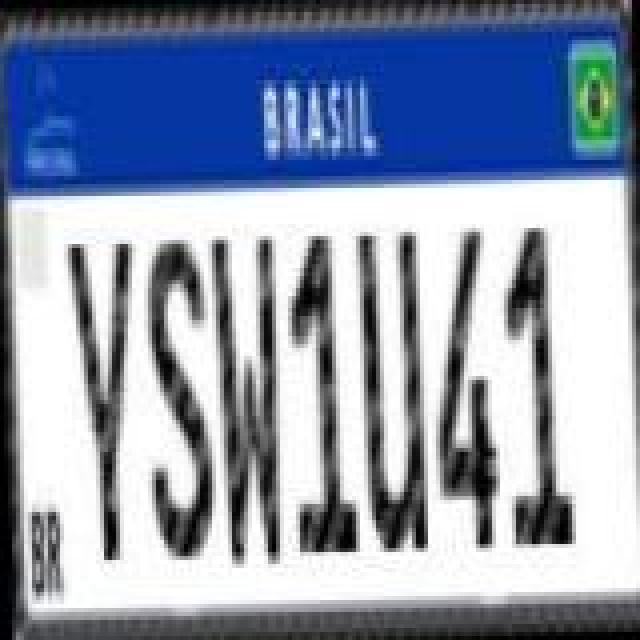1: (286, 230, 362, 562), (502, 218, 578, 550)
4: (428, 224, 500, 556)
S: (142, 230, 218, 566)
U: (358, 226, 426, 554)
W: (210, 234, 286, 570)
Y: (66, 238, 142, 562)
